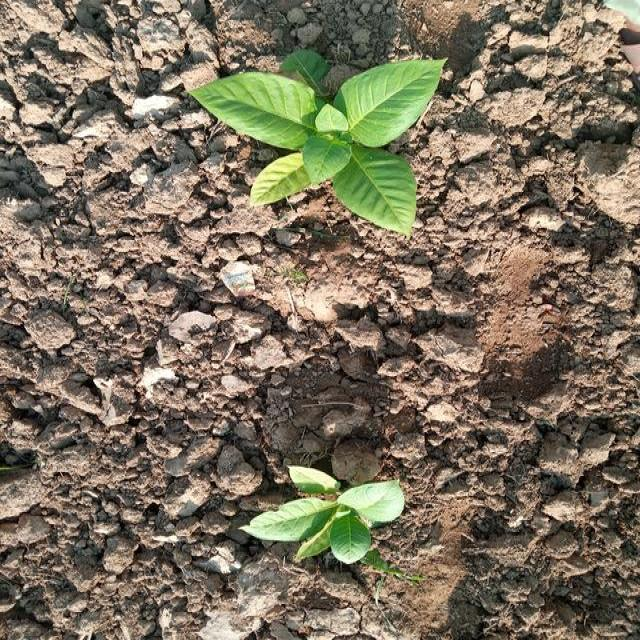crop: (198, 52, 453, 240), (257, 460, 407, 570)
